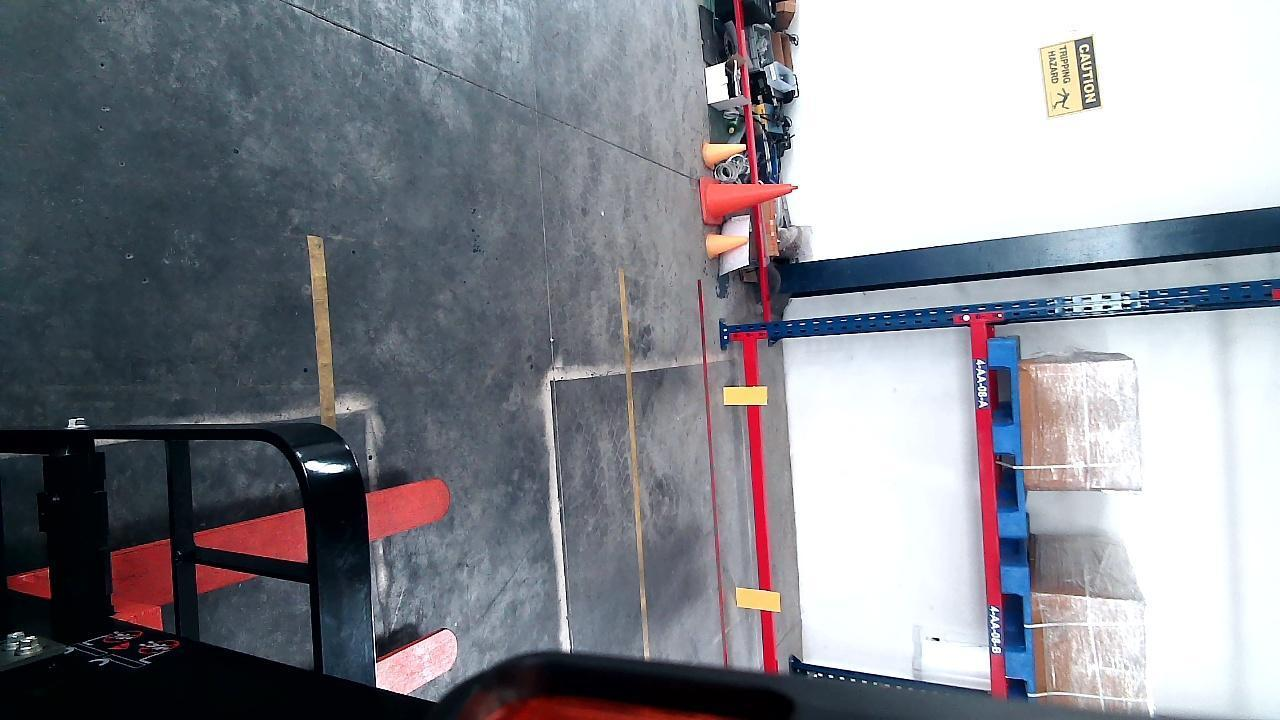h_rack: (967, 325, 1004, 707), (747, 324, 776, 667)
orange_strip: (734, 586, 779, 611), (722, 383, 765, 406)
small_pallet: (990, 334, 1027, 527), (998, 558, 1036, 702)
yellow_line: (620, 271, 652, 660), (312, 230, 335, 417)
